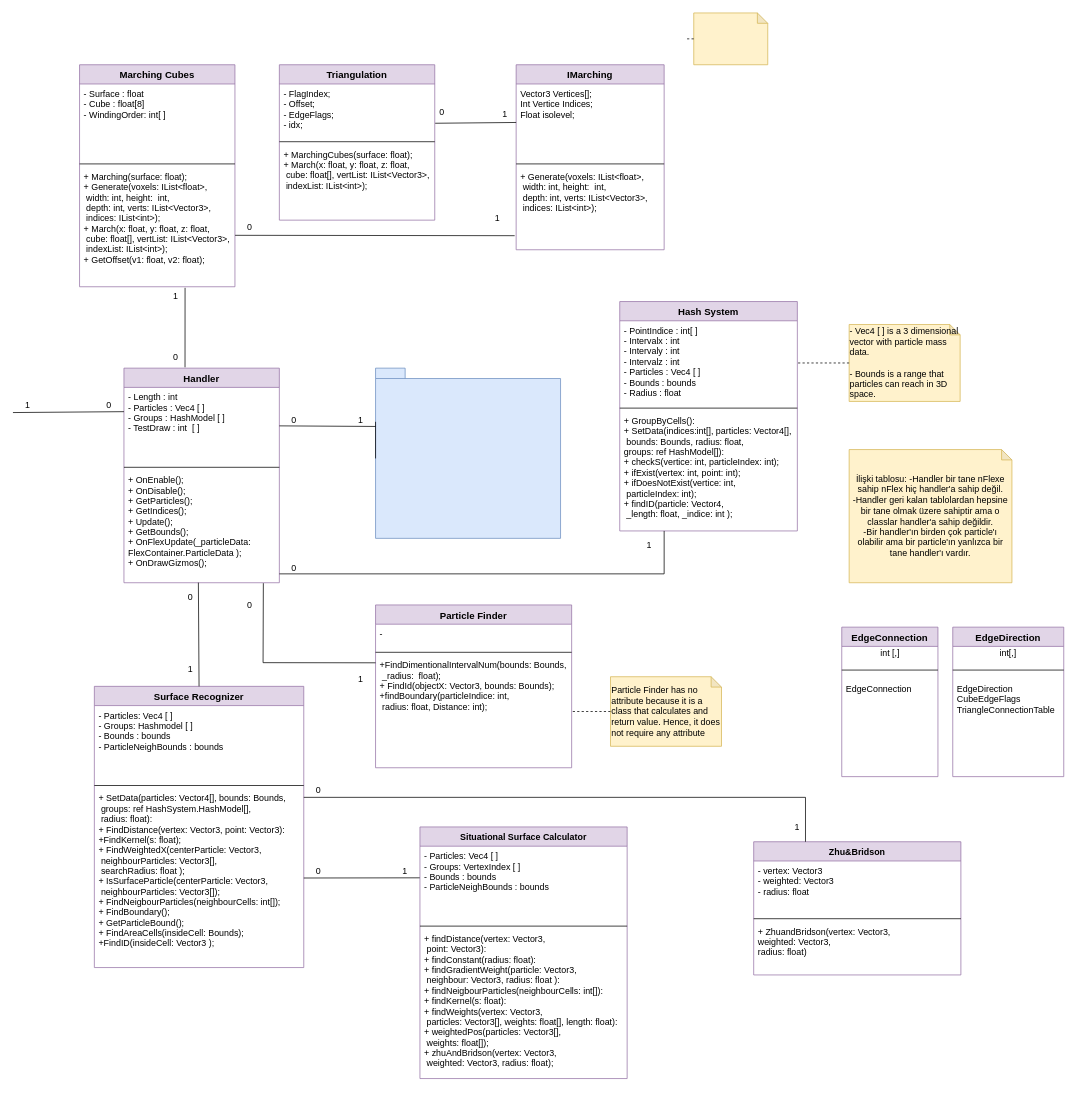
Some shapes in this 1077 by 1094 pixel diagram are drawn without their labels. Each missing label, with the centre of its shape:
"Imarching is an interface class." belongs at (730,38).
"NVIDIA Flex" belongs at (468,452).
